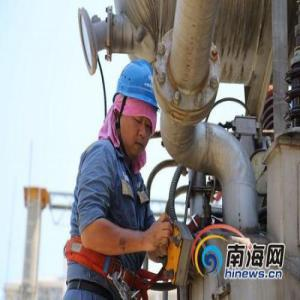blue: (115, 60, 160, 156)
